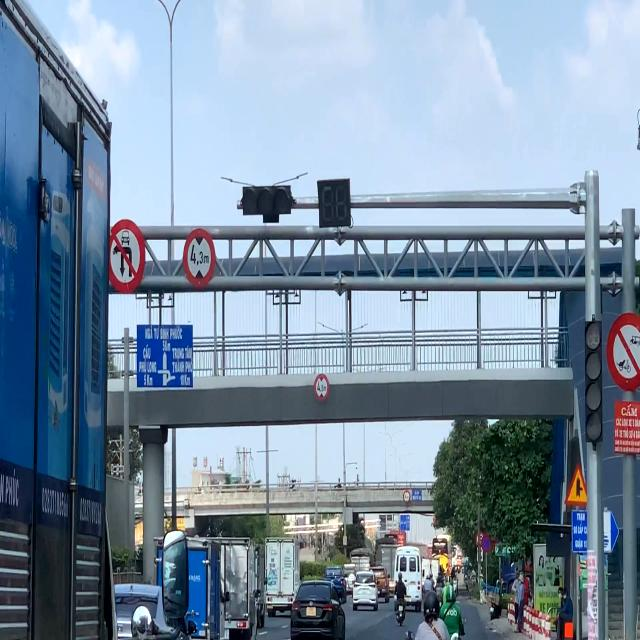P.117: (184, 228, 213, 284), (313, 371, 331, 402)
P.130: (480, 533, 490, 554)
W.207b: (564, 462, 590, 508)
